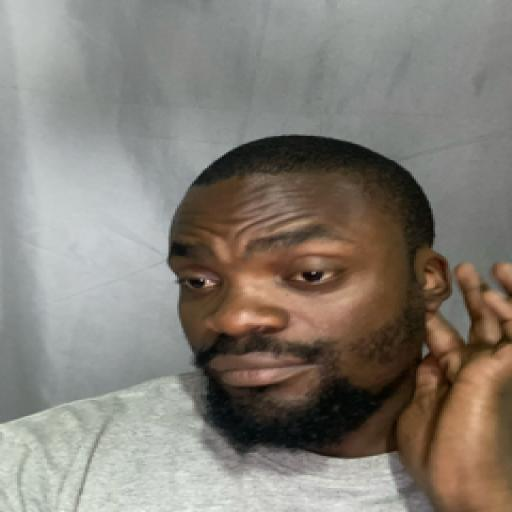JEANLUC: (159, 123, 471, 460)
